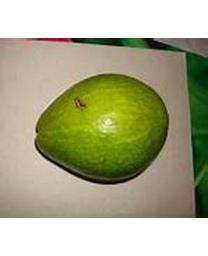avocado: (34, 72, 169, 184)
